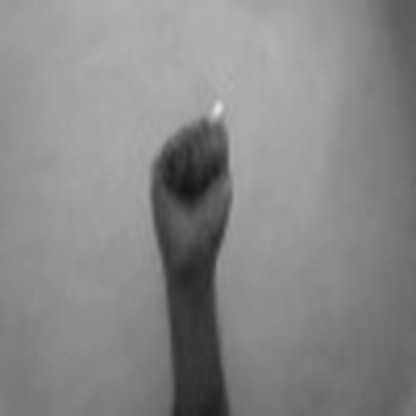a: (130, 93, 252, 258)
